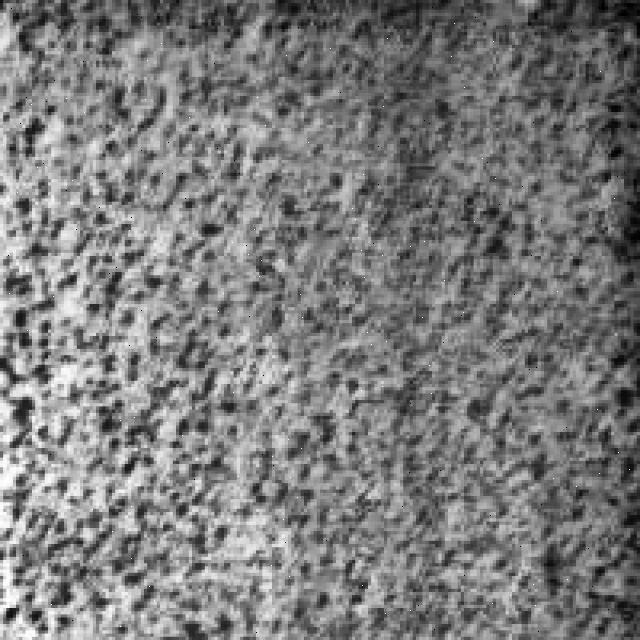Rolled_in_Scale: (3, 6, 314, 621), (484, 6, 630, 624)
